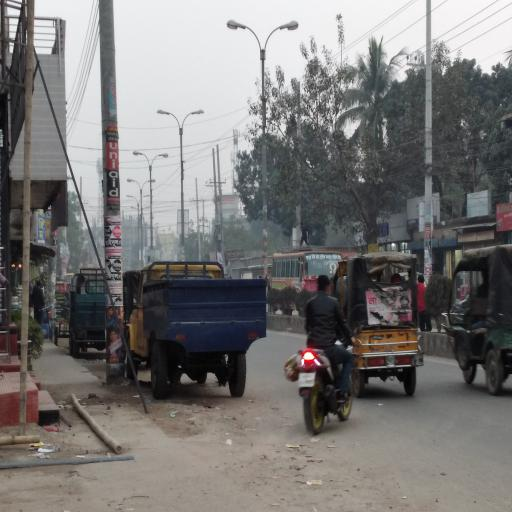auto rickshaw: (340, 258, 424, 401), (440, 237, 512, 400)
minibus: (270, 252, 346, 308)
motorbike: (295, 337, 363, 434)
pickup: (128, 259, 269, 408), (70, 265, 110, 359)
